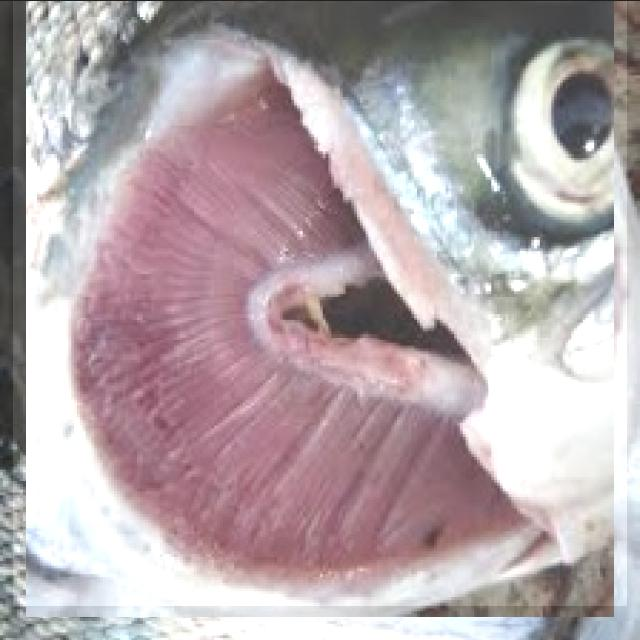Gill Disease: (13, 0, 627, 605)
